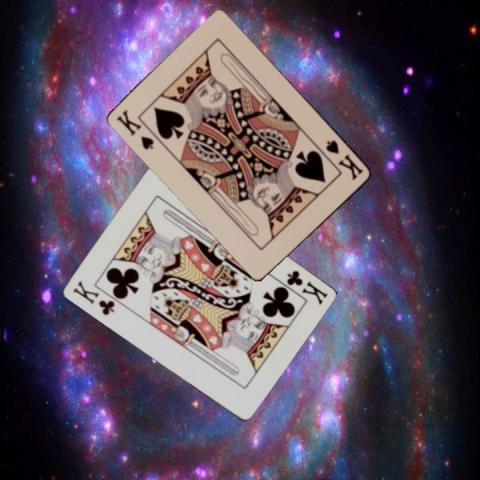Kc: (69, 278, 116, 317), (282, 267, 329, 306)
Ks: (323, 137, 365, 182), (114, 107, 156, 152)
